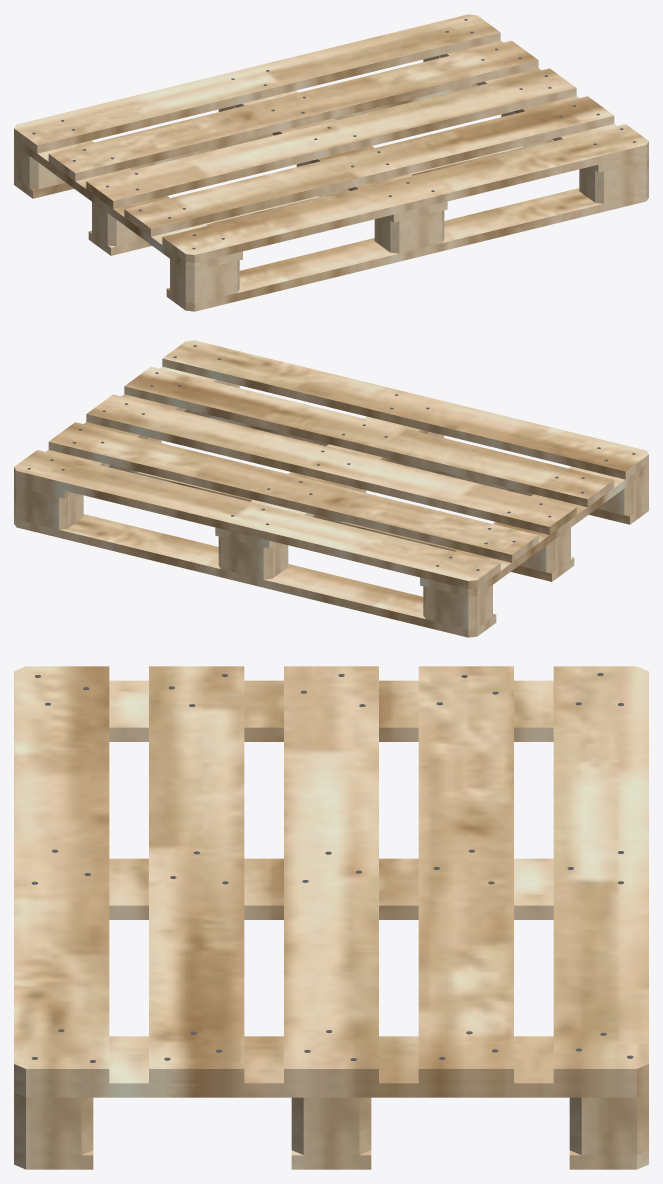
File: pallet.dae
3 views of the same model, one above another, from view 1: azimuth 30°, elevation 25°; view 2: azimuth 150°, elevation 25°; view 3: azimuth 270°, elevation 25° (orthographic). The views are drawn at different scales.
Visible parts, largest first — view 1: 4a93db7f-e43e-43e0-a721-84bcf217f994; view 2: 4a93db7f-e43e-43e0-a721-84bcf217f994; view 3: 4a93db7f-e43e-43e0-a721-84bcf217f994.
Part boxes in pixels (x1,y1,x2,y2): 4a93db7f-e43e-43e0-a721-84bcf217f994: [14, 14, 648, 311]; 4a93db7f-e43e-43e0-a721-84bcf217f994: [14, 340, 648, 637]; 4a93db7f-e43e-43e0-a721-84bcf217f994: [14, 666, 648, 1169].
Size of the model in its own units: 1.2 by 0.8 by 0.1405.
Materials: 2 (1 with a texture image).
